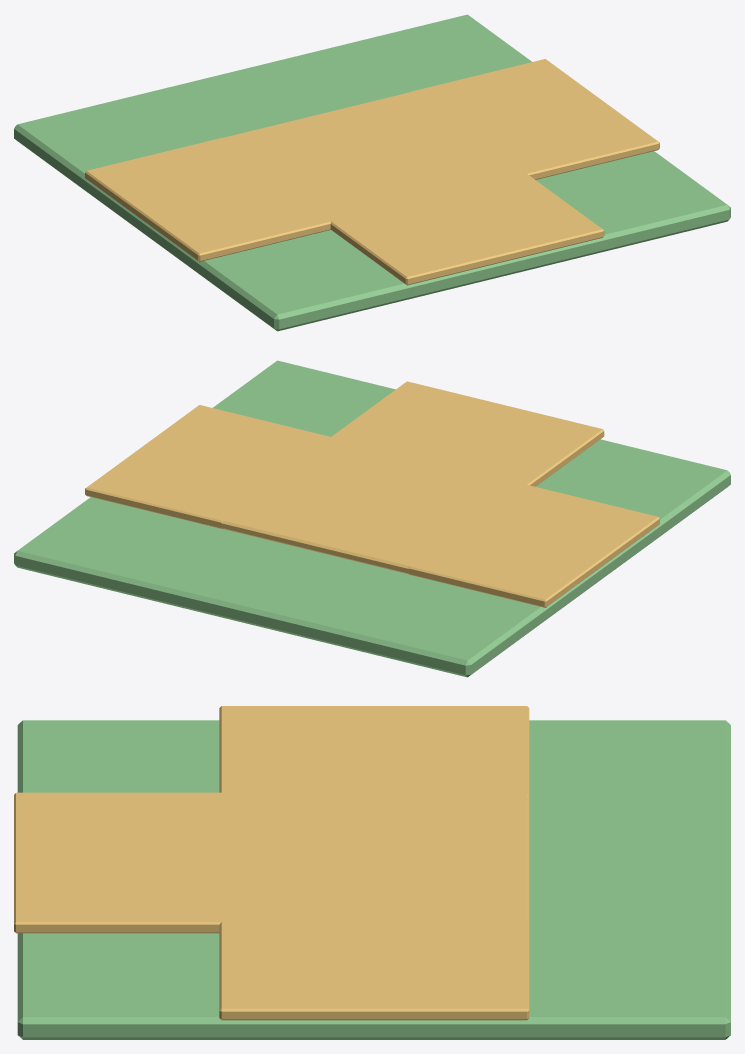
The model's file is ROAD_DIRT_1x1_T.glb.
3 renders of one model, top to bottom at view 1: azimuth 30°, elevation 25°; view 2: azimuth 150°, elevation 25°; view 3: azimuth 270°, elevation 25°, orthographic. The views are drawn at different scales.
Visible parts, largest first — view 1: ROAD_DIRT_1x1_T_Visual; view 2: ROAD_DIRT_1x1_T_Visual; view 3: ROAD_DIRT_1x1_T_Visual.
Part boxes in pixels (x1=…): ROAD_DIRT_1x1_T_Visual: x1=14, y1=14, x2=730, y2=331; ROAD_DIRT_1x1_T_Visual: x1=14, y1=360, x2=730, y2=677; ROAD_DIRT_1x1_T_Visual: x1=14, y1=706, x2=730, y2=1039.
Size of what is drawn, in the model's own units: 2 by 0.1045 by 1.99.
